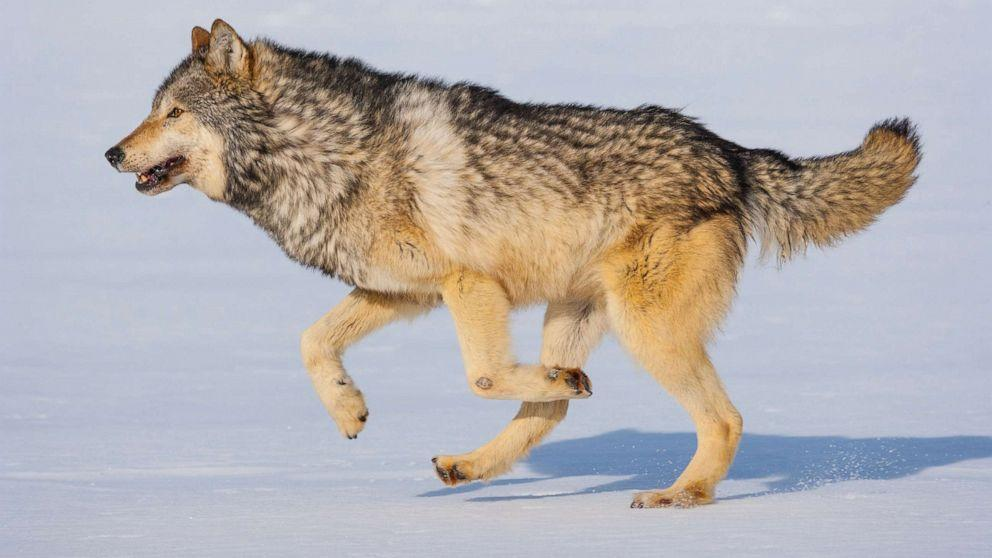Wolf: (104, 19, 926, 510)
